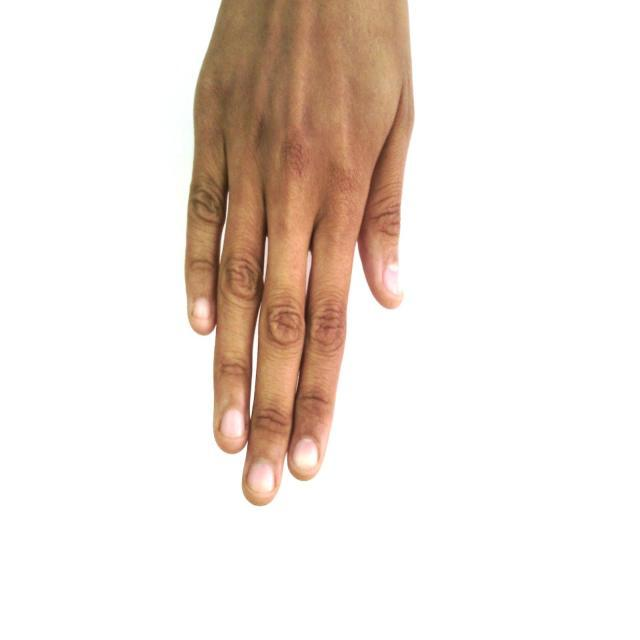Fingernail: (249, 462, 275, 492), (292, 439, 317, 469), (222, 410, 244, 437), (385, 262, 401, 294), (193, 299, 211, 324)
